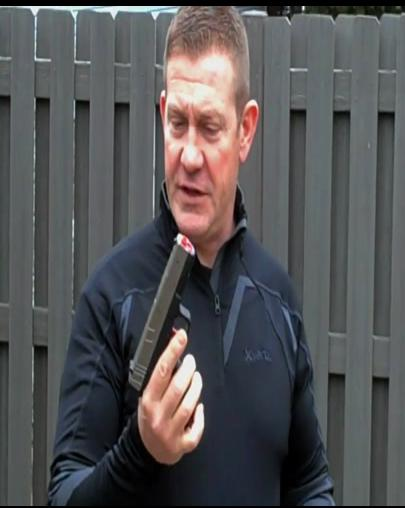pistol: (128, 227, 213, 445)
